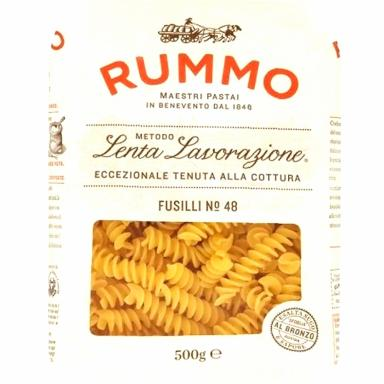pasta package: (48, 1, 340, 383)
